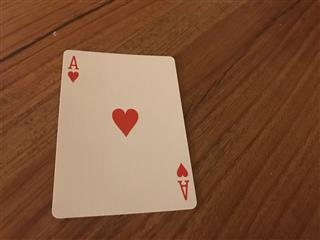AceOfHearts: (51, 49, 197, 218)
